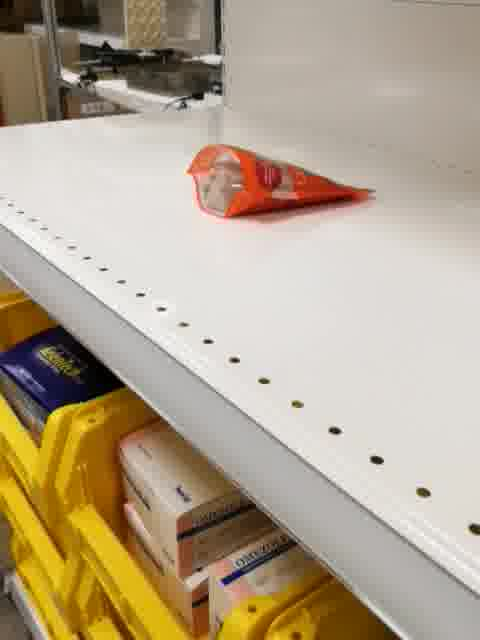whitechia: (183, 142, 378, 221)
